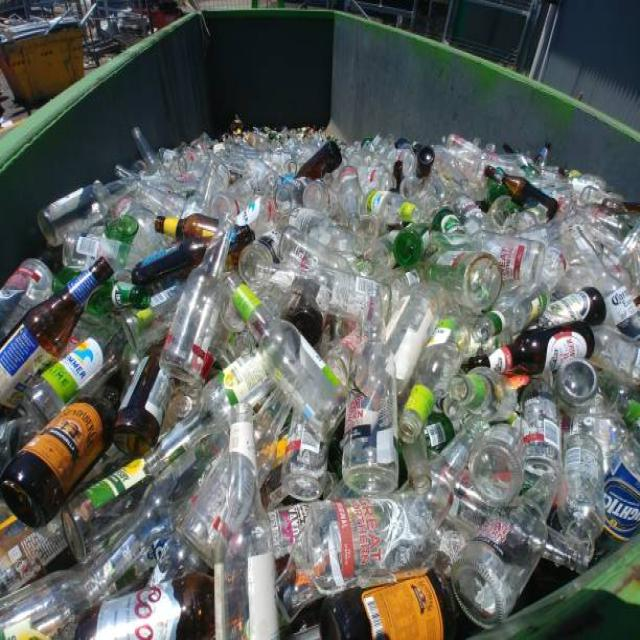glass: (44, 178, 610, 564)
